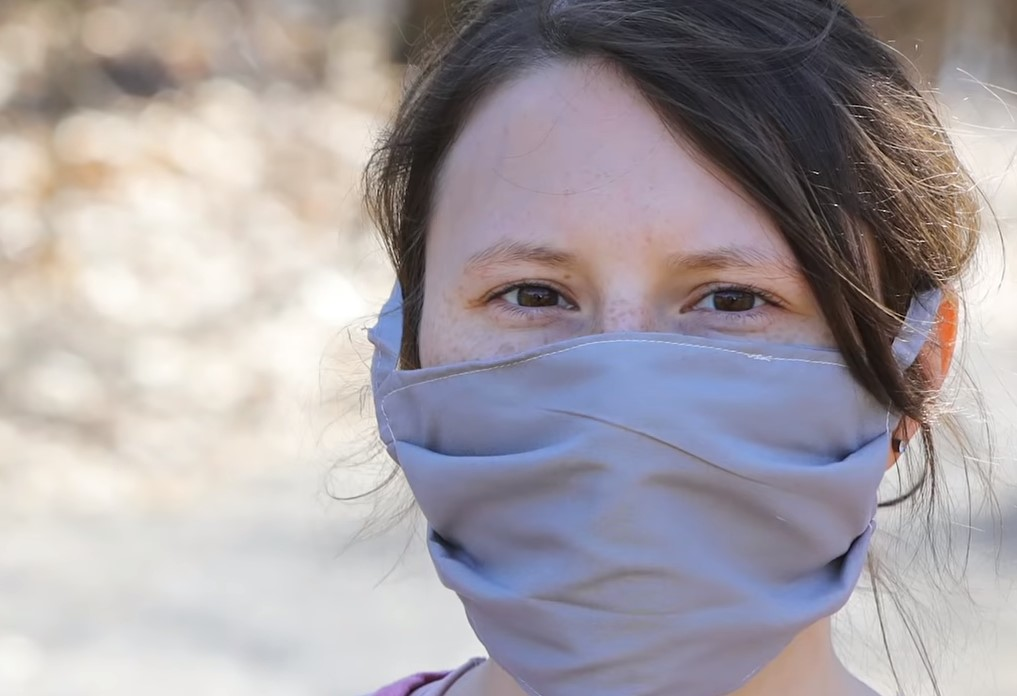face_with_mask: (357, 14, 974, 694)
